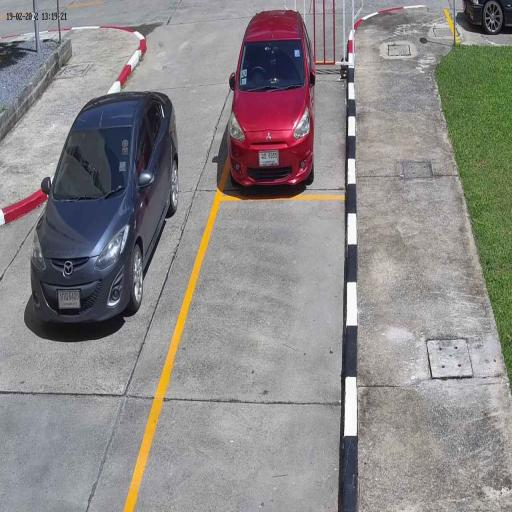car: (31, 89, 178, 327), (227, 6, 317, 192)
